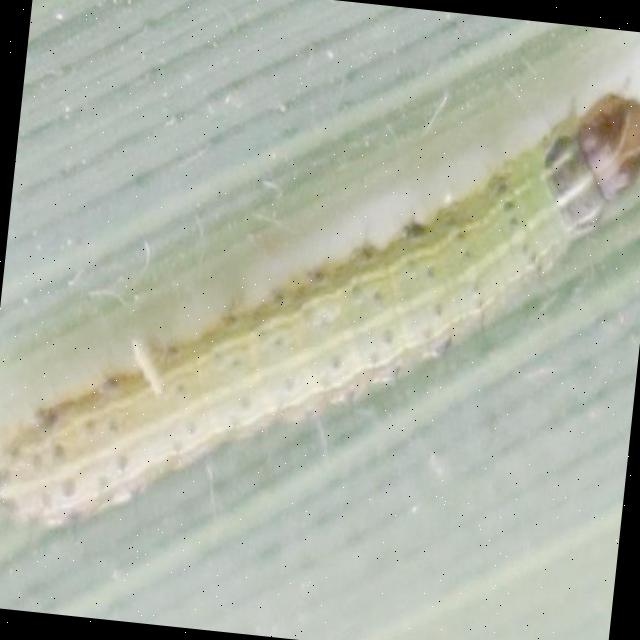worm: (1, 33, 640, 592)
